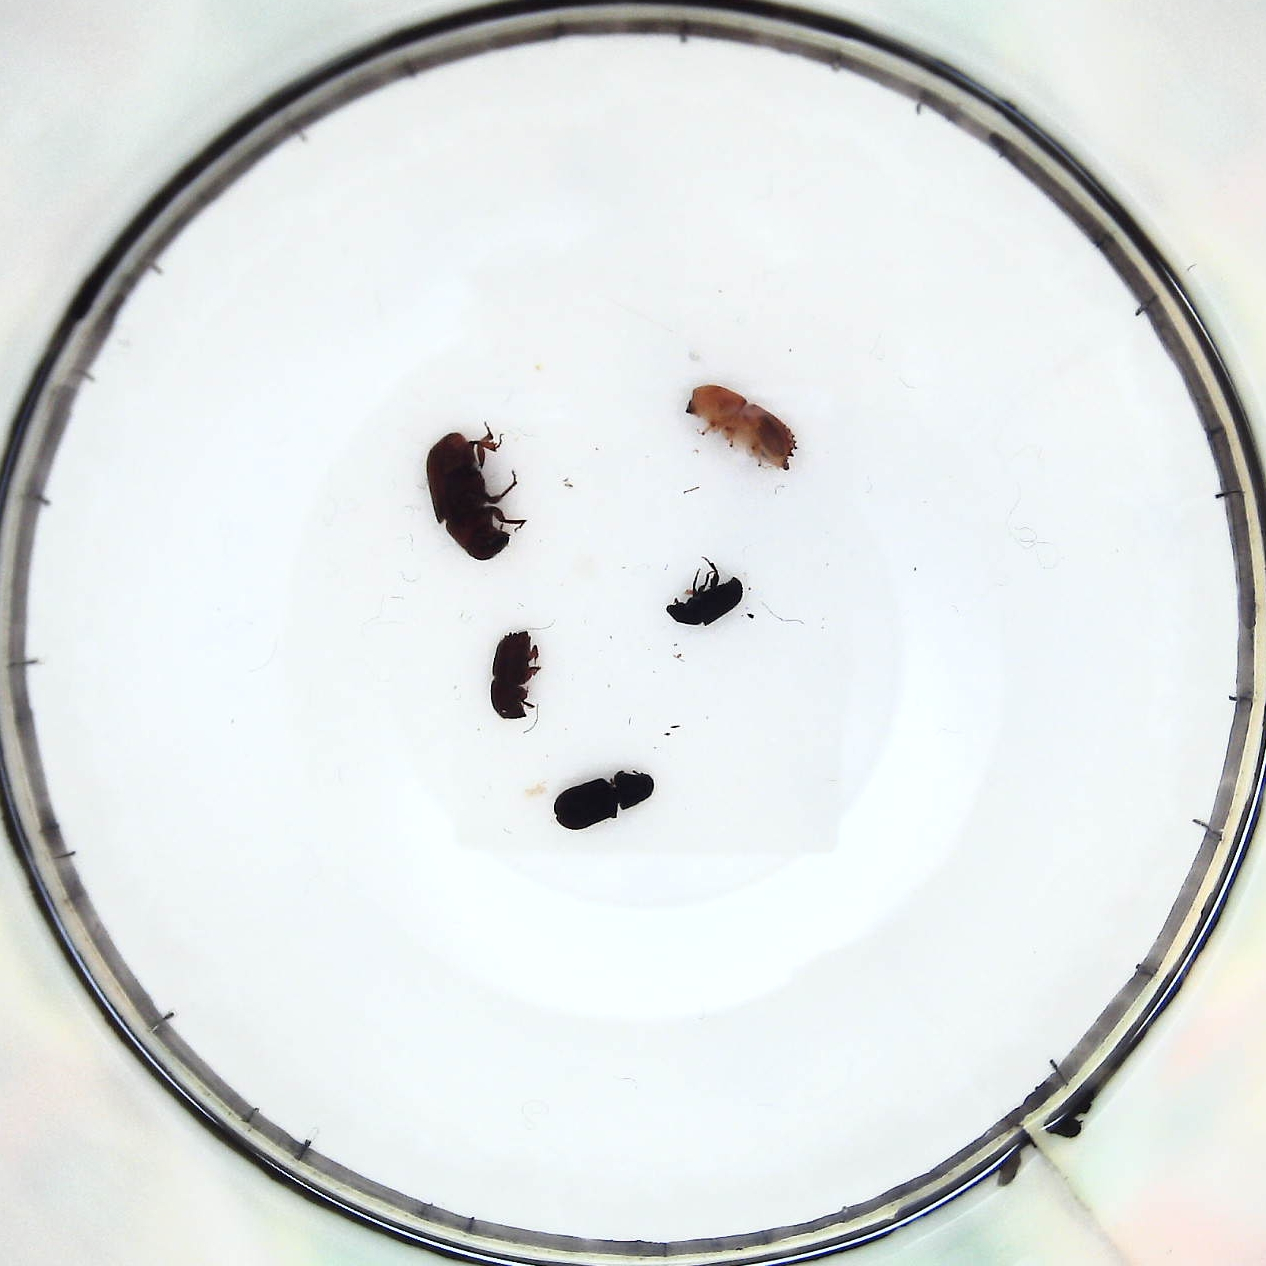Boerner: (686, 380, 801, 470)
Leconte: (427, 428, 512, 561)
Linnaeus: (492, 630, 537, 722)
armandi: (556, 771, 656, 829)
coleoptera: (664, 577, 741, 626)
